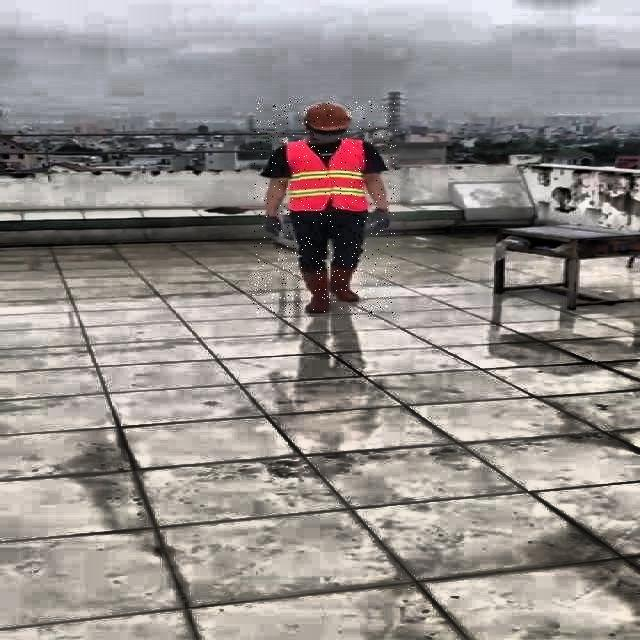safety_helmet: (302, 102, 351, 126)
safety_jacket: (284, 138, 370, 213)
